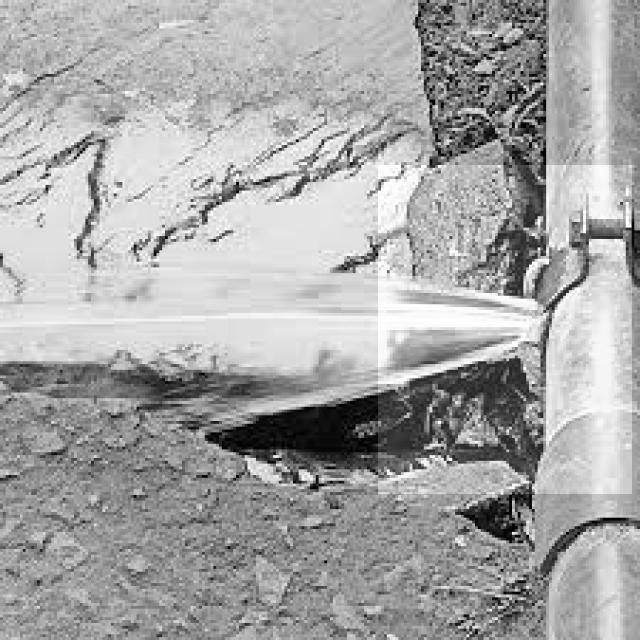corrosion: (453, 191, 590, 406)
